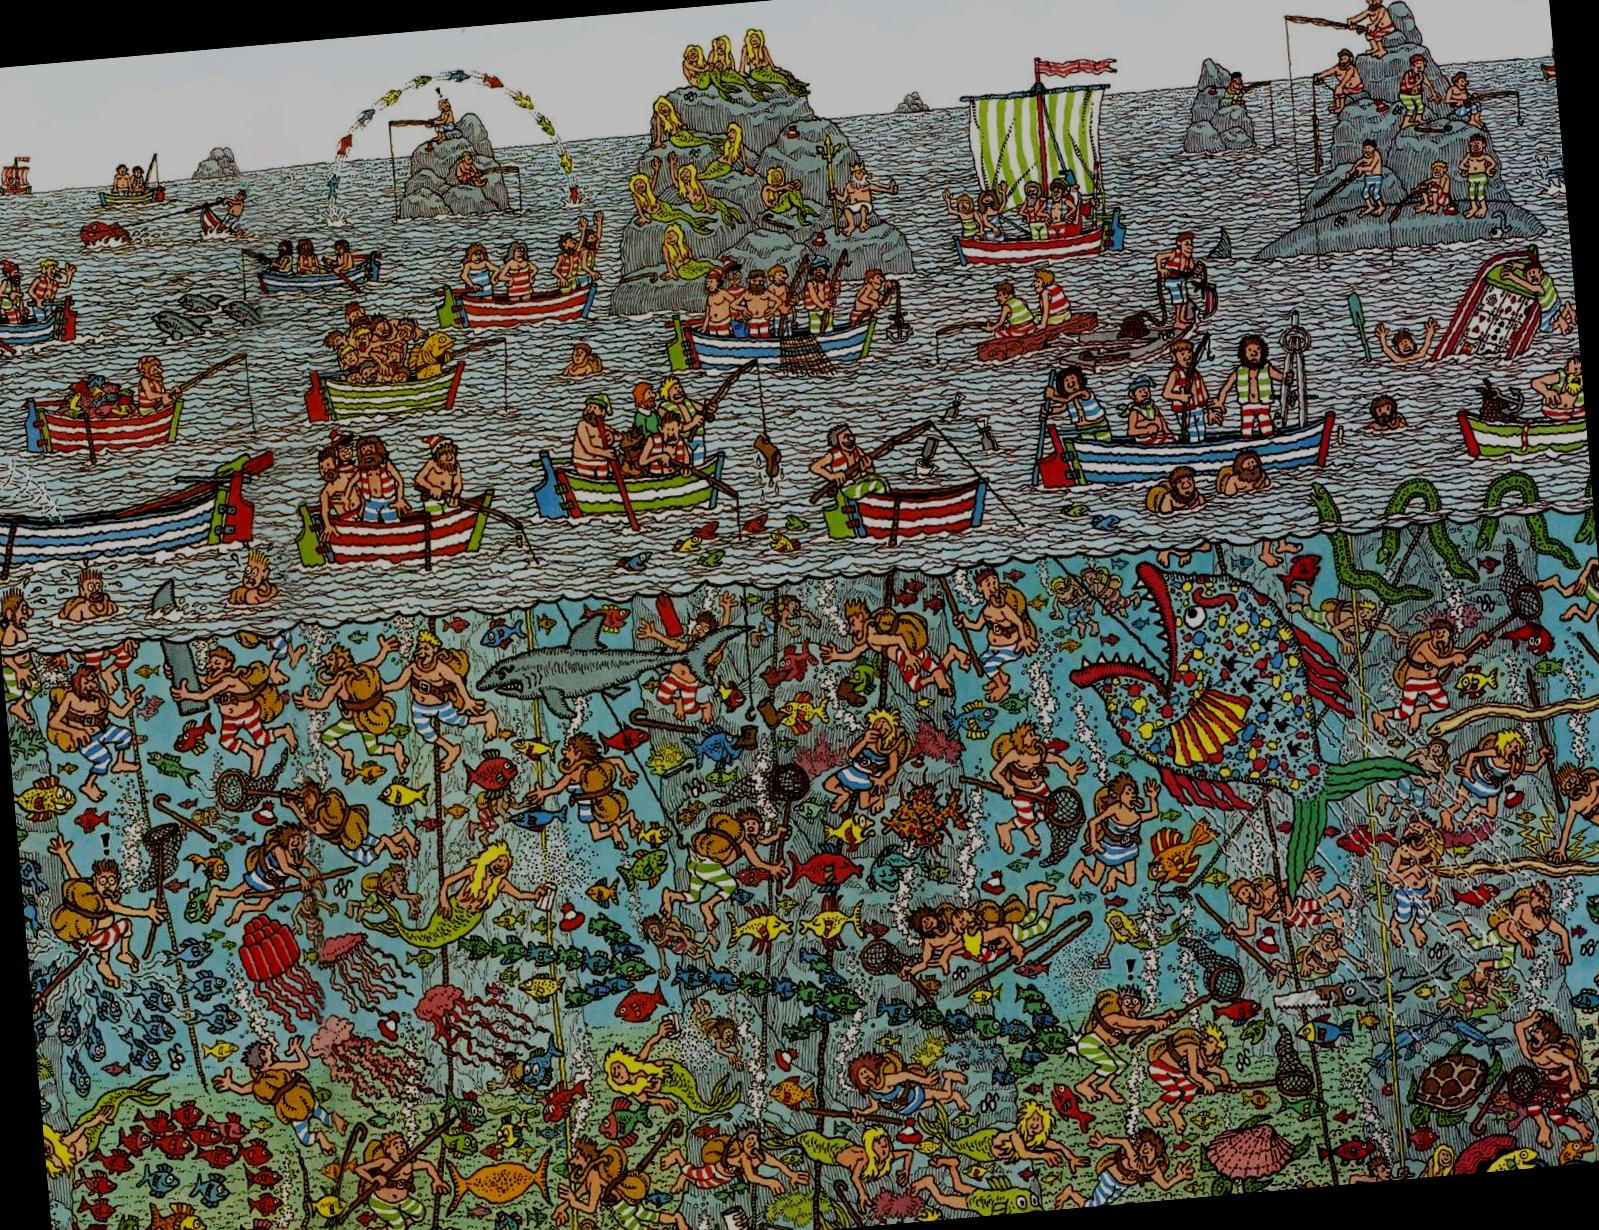waldo: (719, 253, 743, 287)
